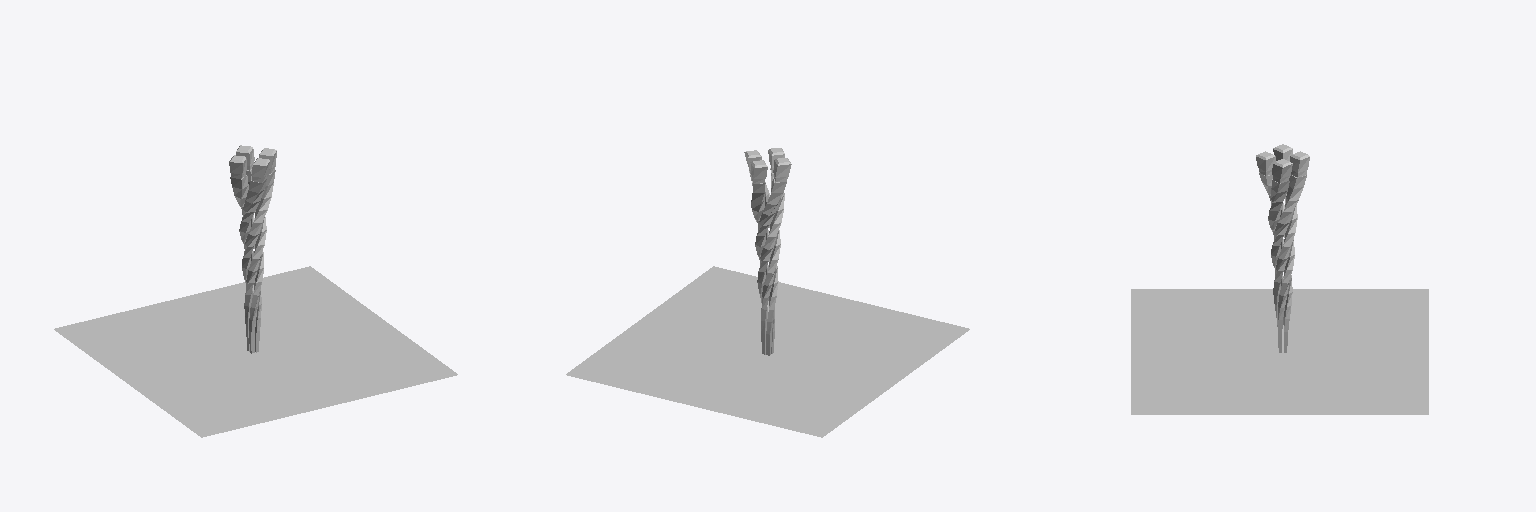
File: torch.obj
The picture shows the model from 3 angles: view 1: azimuth 30°, elevation 25°; view 2: azimuth 150°, elevation 25°; view 3: azimuth 270°, elevation 25°; orthographic projection.
Parts seen in each view (by area): view 1: Plane, Plane.006; view 2: Plane, Plane.006; view 3: Plane, Plane.006.
Part boxes in pixels (x1,y1,x2,y2): Plane: (54, 266, 457, 437); Plane.006: (229, 145, 276, 353); Plane: (566, 266, 969, 437); Plane.006: (744, 148, 791, 355); Plane: (1131, 289, 1428, 414); Plane.006: (1256, 144, 1309, 352).
Bounding box in the file's own units: 1 × 0.7481 × 1.